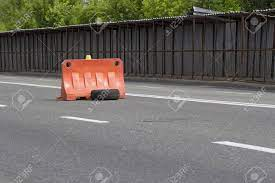obstacle: (60, 55, 129, 107)
